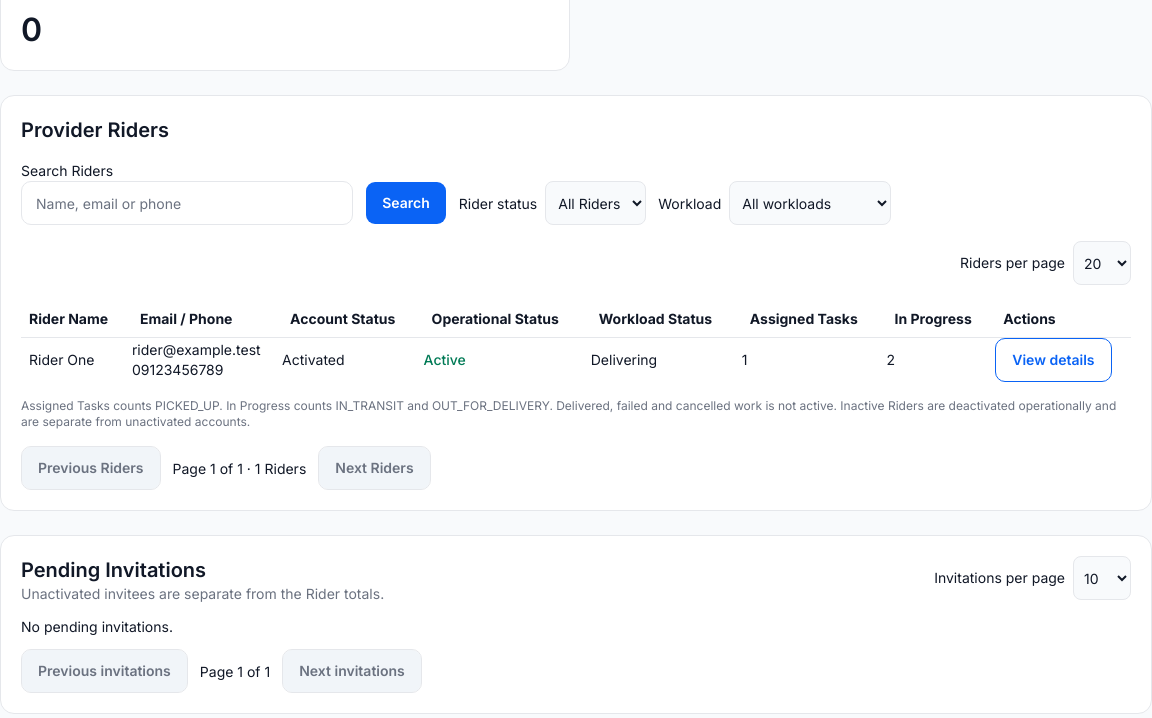
Test: shows a real active-assignment conflict when deactivation is blocked
(page scrolled)
What coordinates should you click on to do the following:
click the button with aria-label "View Rider One details"
I would click on:
 (1053, 360)
Its box is [995, 338, 1112, 382].
(page scrolled)
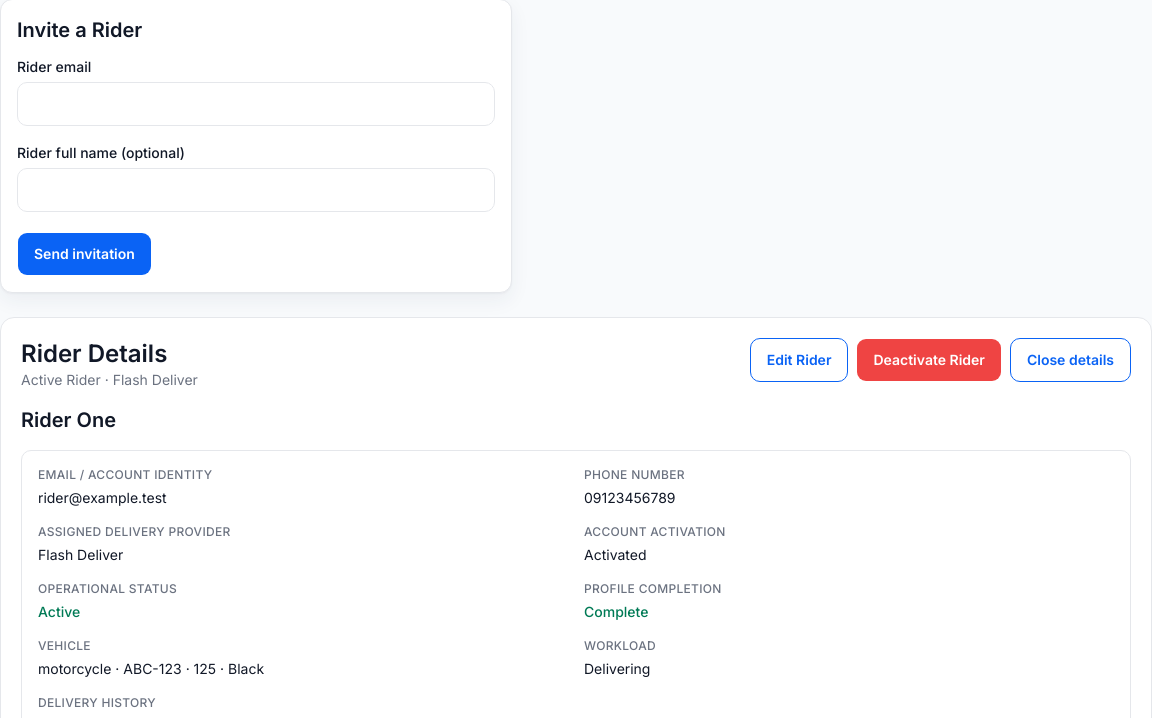
What coordinates should you click on to do the following:
click the button "Deactivate Rider"
I would click on:
 (929, 360)
Its box is [856, 338, 1002, 382].
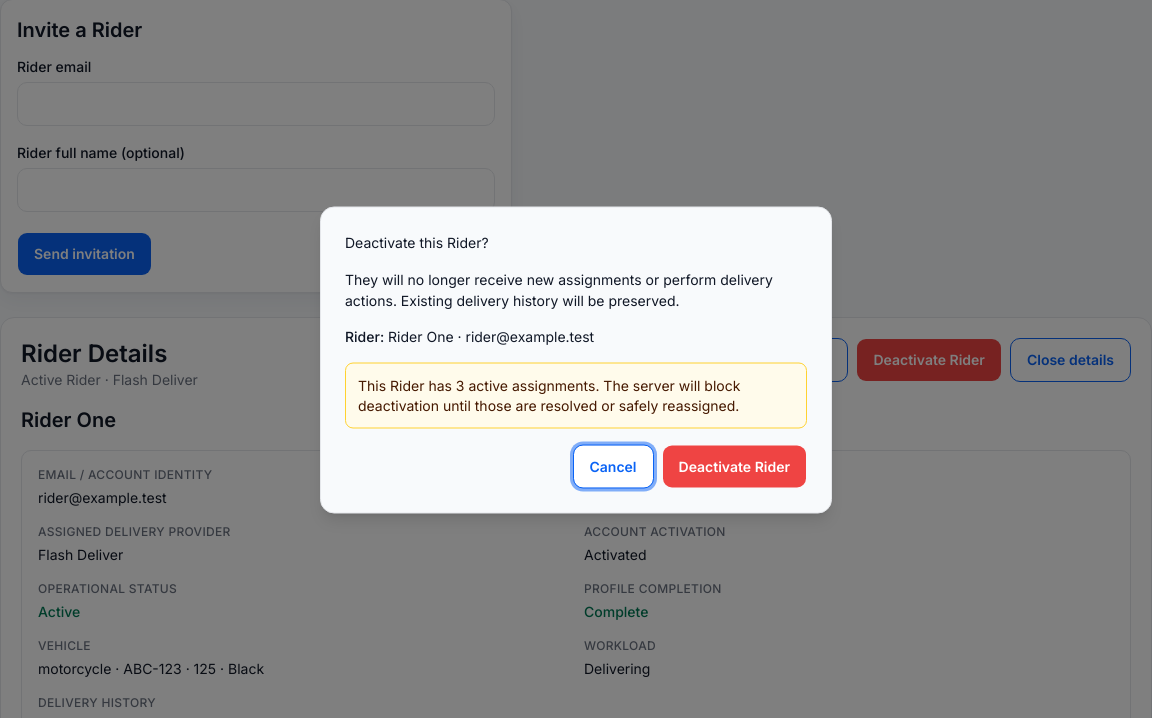
Expected: the text "active assignment" is shown, [464, 376, 588, 394]
What coordinates should you click on to do the following:
click the button "Deactivate Rider"
I would click on:
 (734, 466)
Its box is [662, 444, 807, 488].
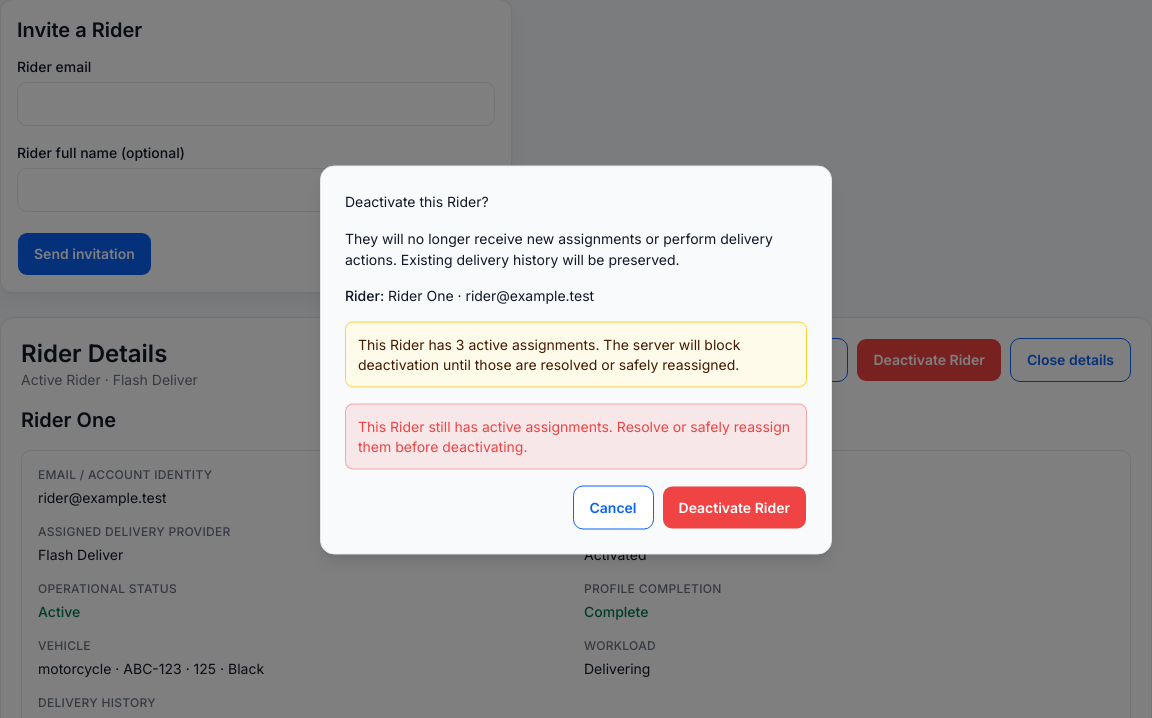
Expected: the text "still has active assignments" is shown, [358, 418, 790, 454]
